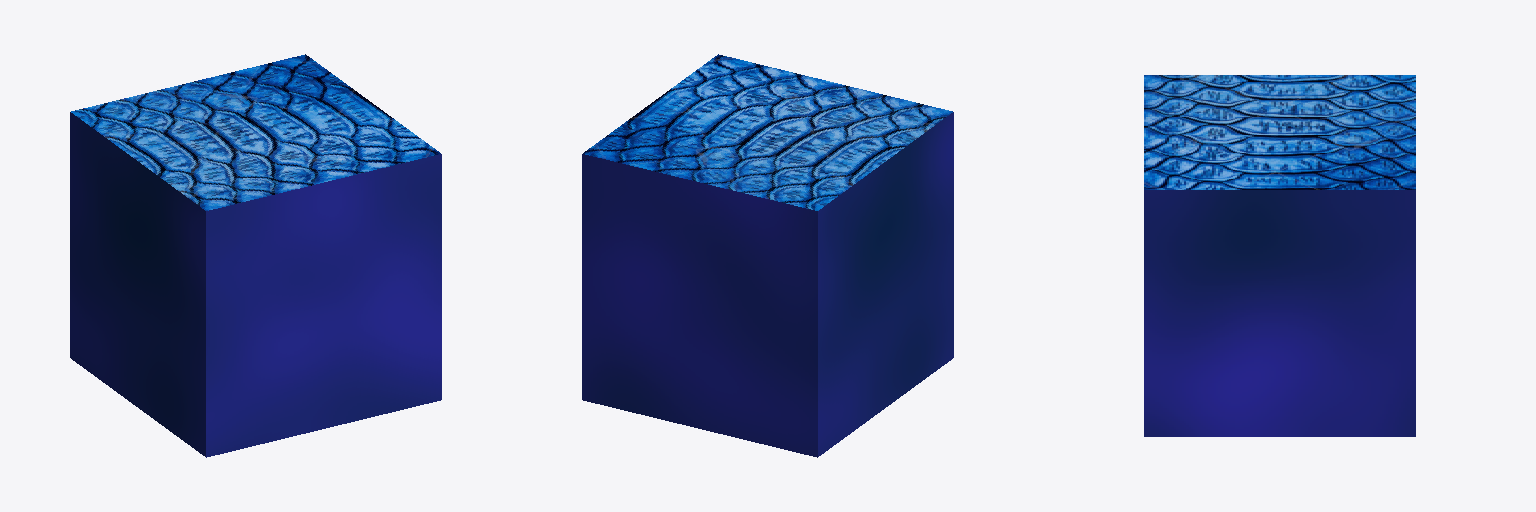
The picture shows the model from 3 angles: view 1: azimuth 30°, elevation 25°; view 2: azimuth 150°, elevation 25°; view 3: azimuth 270°, elevation 25°; orthographic projection.
Visible parts, largest first — view 1: SnakeGib; view 2: SnakeGib; view 3: SnakeGib.
Part boxes in pixels (left/top/right/bottom): SnakeGib: left=70, top=54, right=441, bottom=457; SnakeGib: left=582, top=54, right=953, bottom=457; SnakeGib: left=1144, top=75, right=1415, bottom=436.
Size of the model in its own units: 0.5 by 0.5 by 0.5.
1 materials, 1 textured.